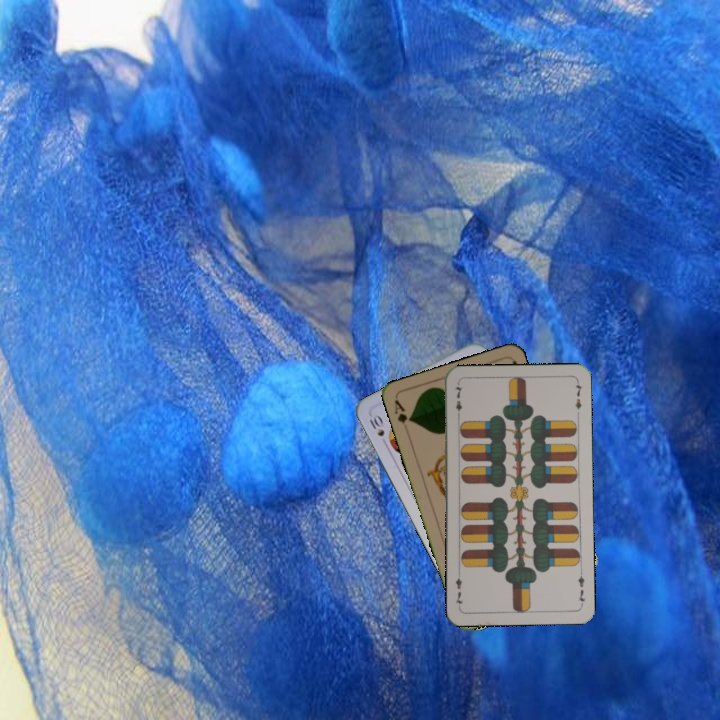E7: (574, 567, 588, 608), (452, 381, 465, 421)
GA: (390, 396, 415, 426)
S10: (365, 411, 390, 449)
